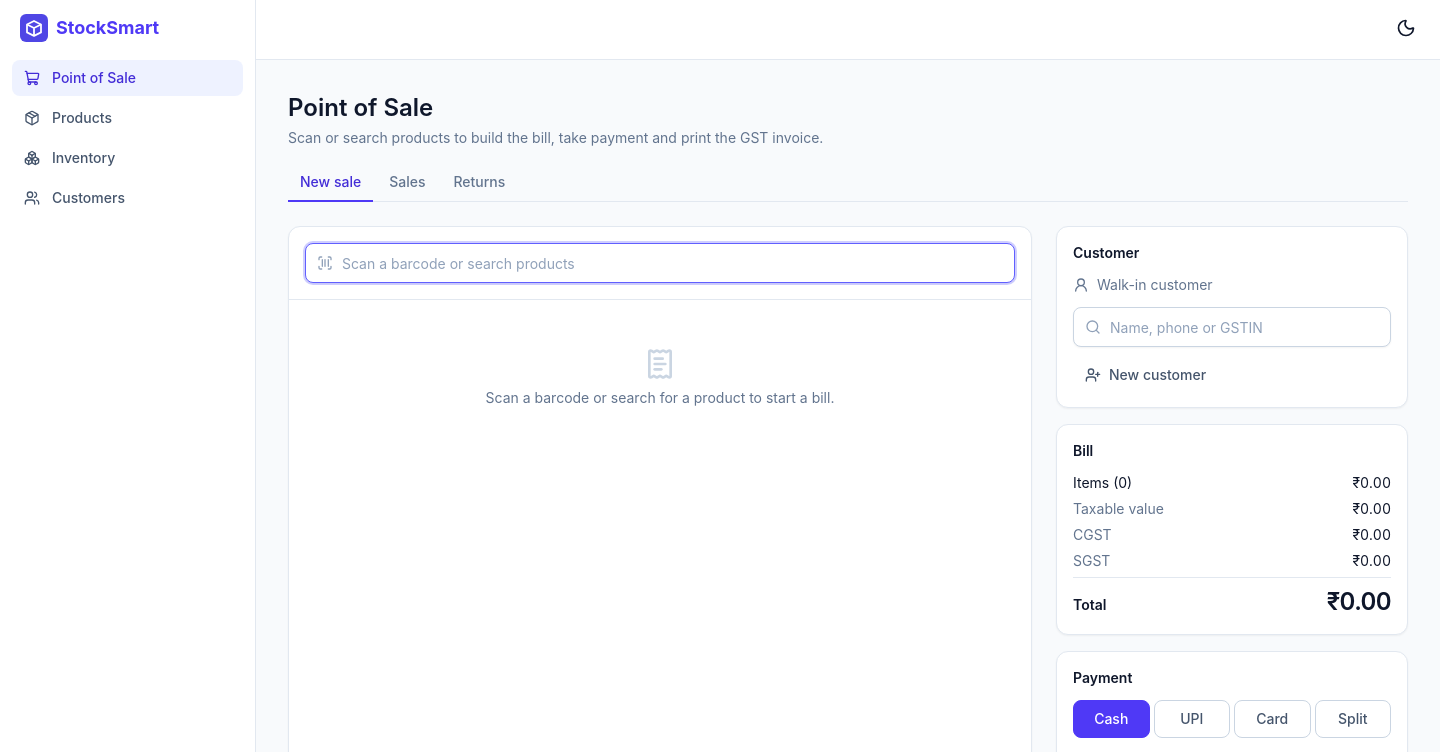
Point of sale › checks stock and units before billing
This screenshot has width=1440, height=752.
In the dropdown named "Add product": {"x": 660, "y": 263} [305, 243, 1015, 283], type "8901111111111"
Then press Enter
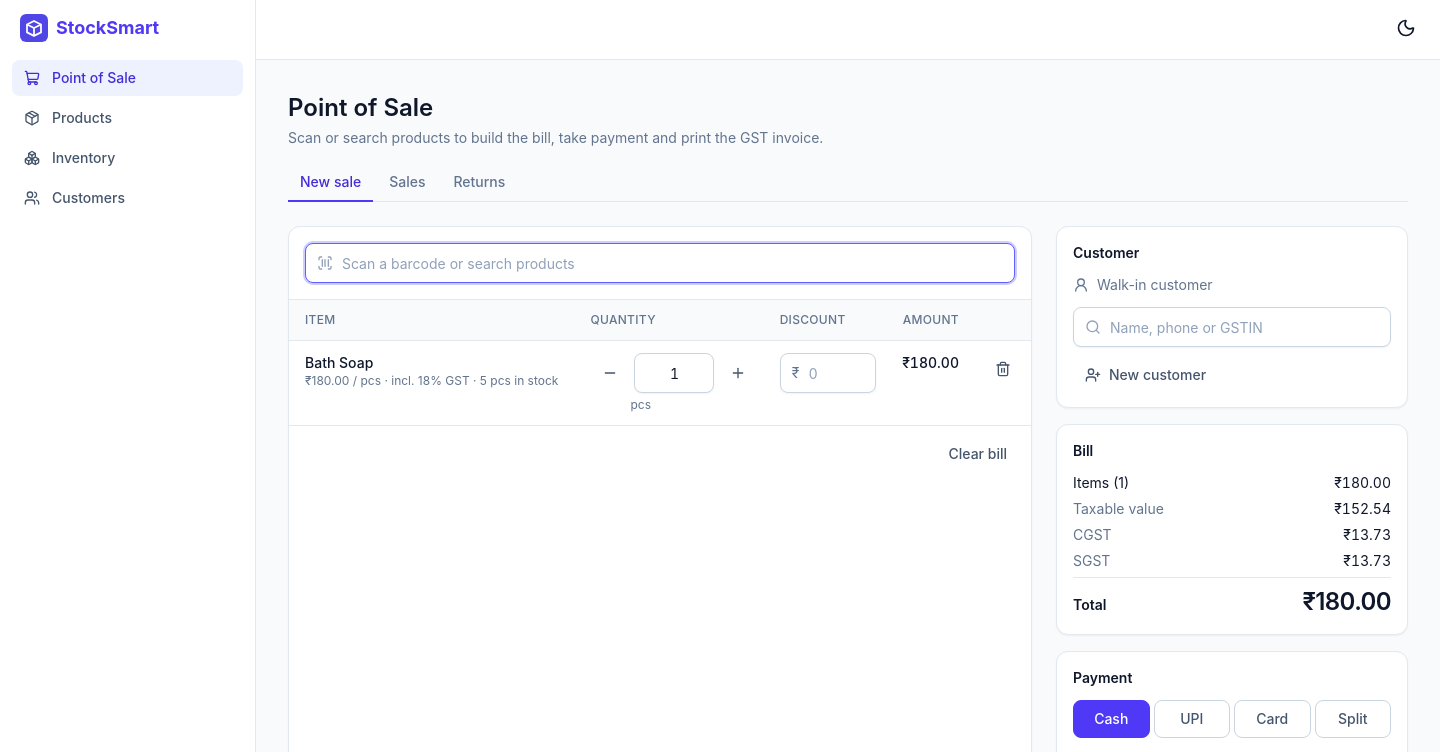
Clear the field named "Quantity of Bath Soap": {"x": 674, "y": 373} [634, 353, 714, 393]
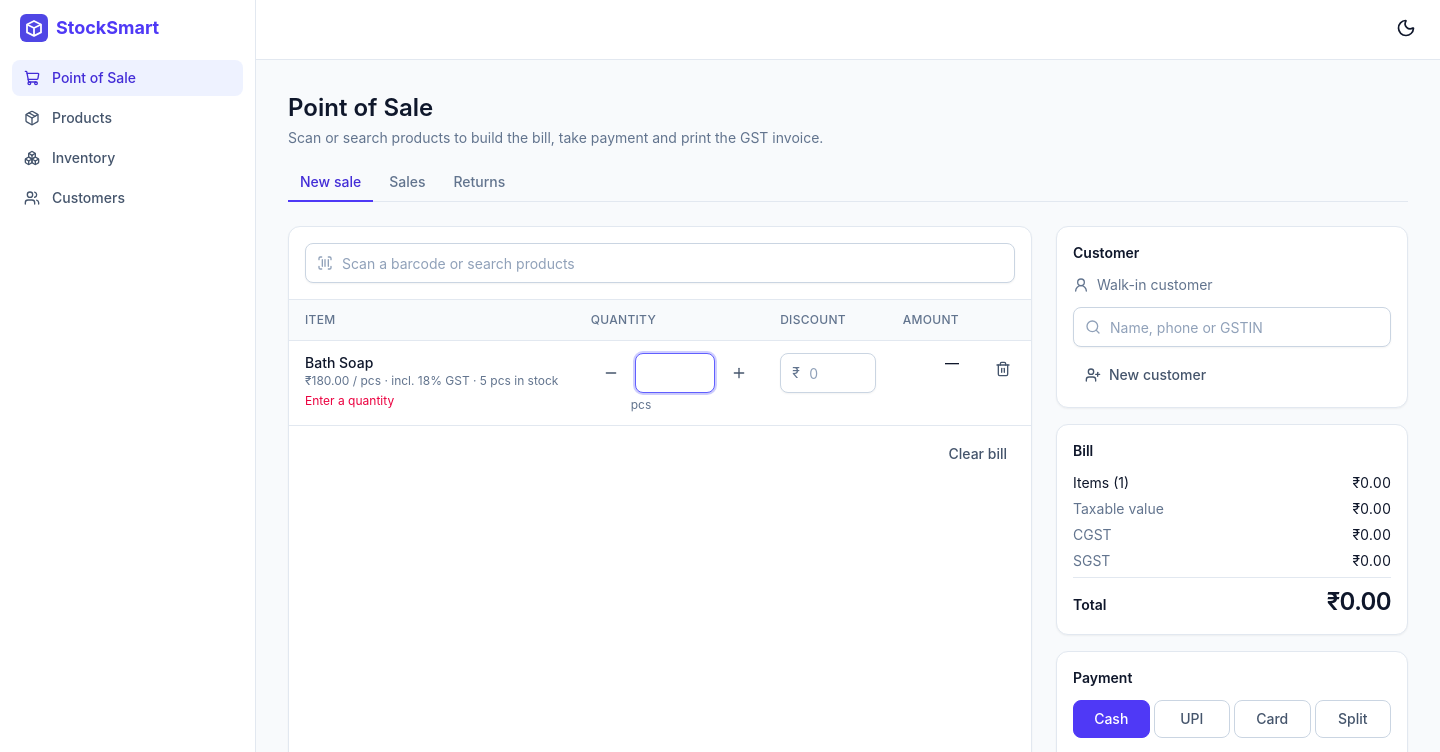
In the field named "Quantity of Bath Soap": {"x": 675, "y": 373} [635, 353, 715, 393], type "6"
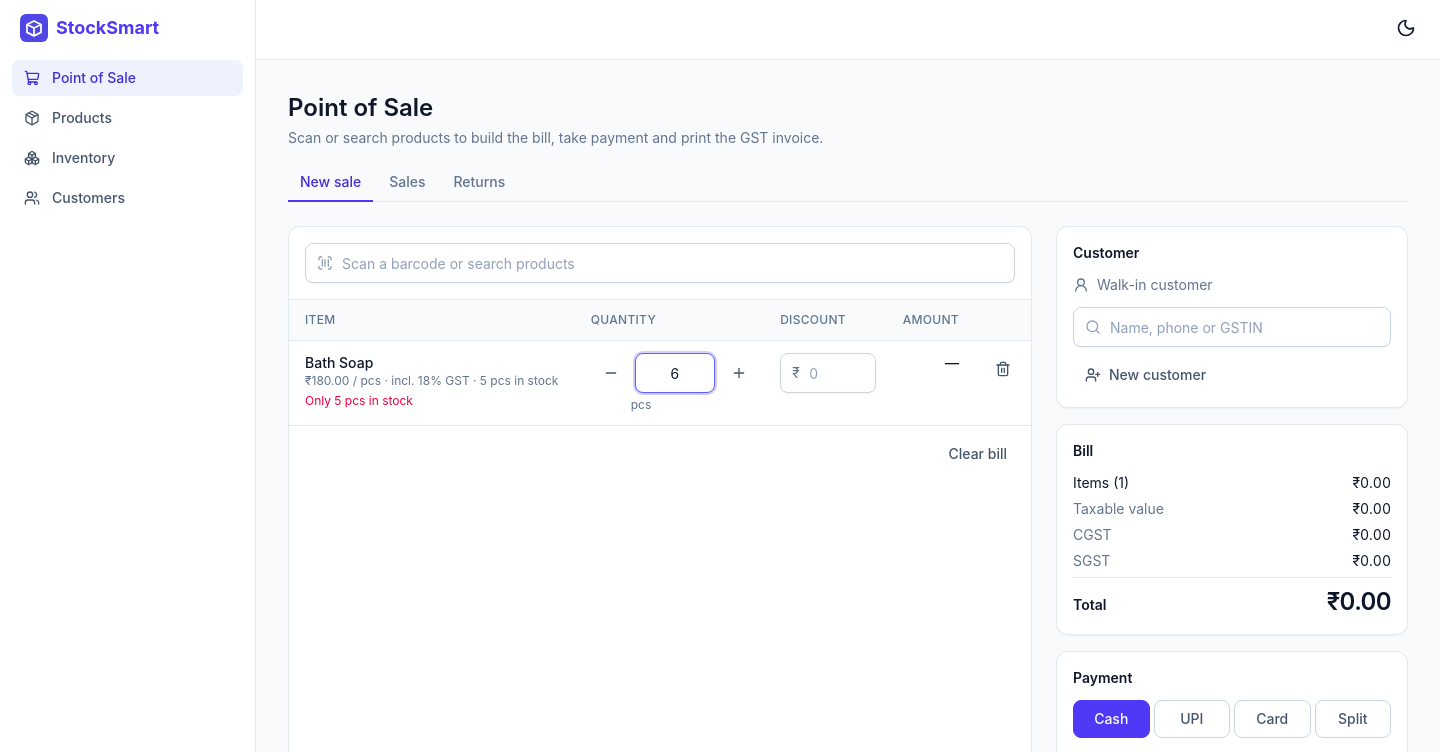
Expected: the message reads "Only 5 pcs in stock", [305, 393, 413, 408]
Replace the text in the field named "Quantity of Bath Soap" with "1.5": {"x": 675, "y": 373} [635, 353, 715, 393]
(page scrolled)
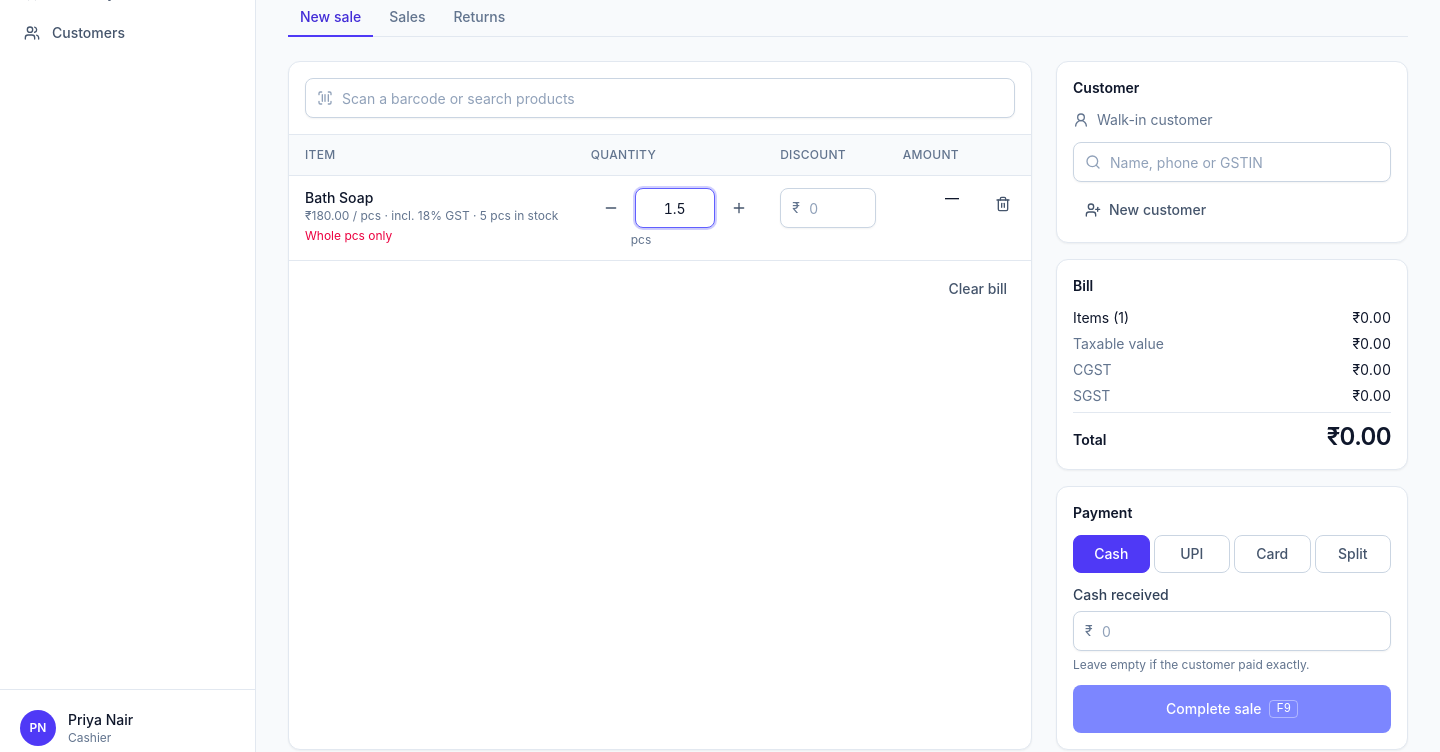
Expected: the button "Complete sale F9" is disabled, [1073, 685, 1391, 733]
Expected: the message reads "Whole pcs only", [305, 228, 392, 243]
